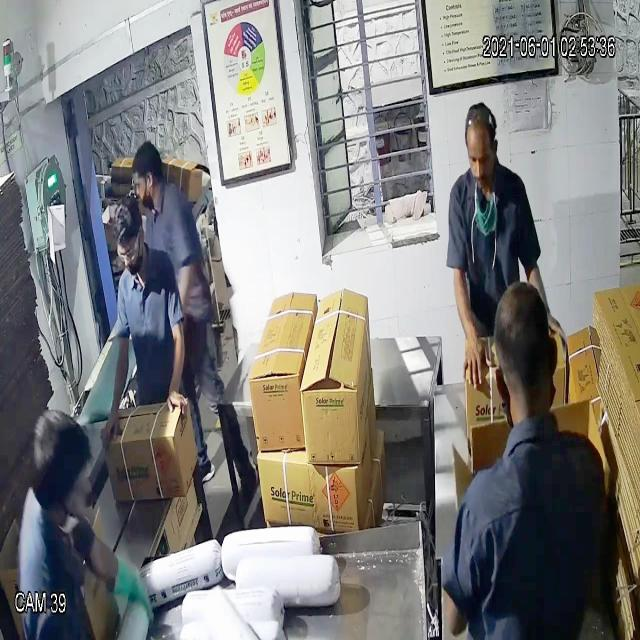glasses: (115, 233, 146, 265)
no-glass: (463, 132, 501, 174)
